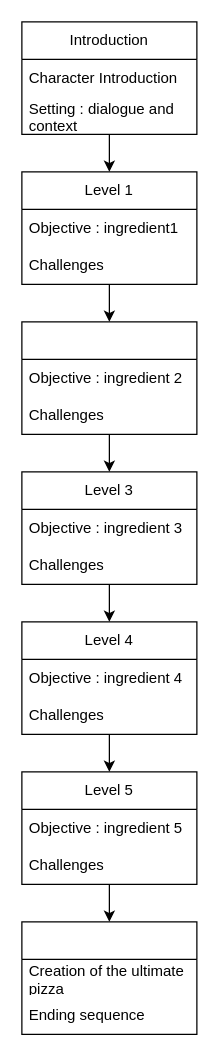
The diagram is 219 pixels wide and 1056 high, and some of its shapes have lost their labels. Here are the shapes that lost their labels. From the top down, the box of each, then its label:
(21, 321, 197, 434): Level 2
(21, 921, 197, 1034): Epilogue
